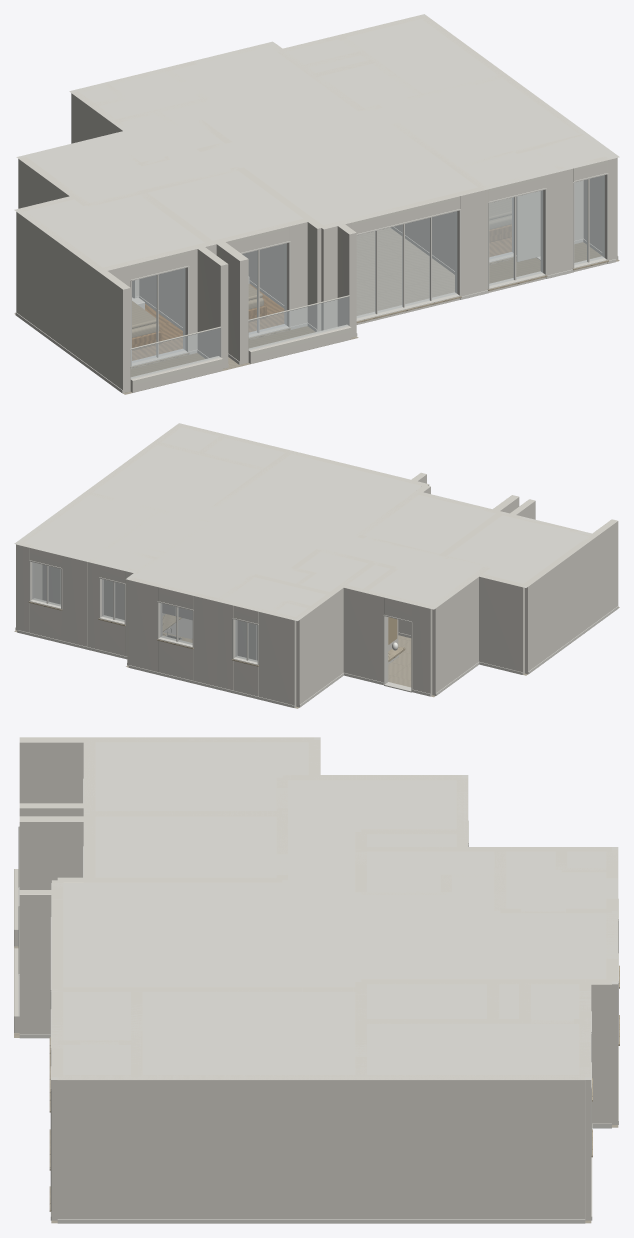
The model's file is acro112a-expanded.glb.
3 renders of one model, top to bottom at view 1: azimuth 30°, elevation 25°; view 2: azimuth 150°, elevation 25°; view 3: azimuth 270°, elevation 25°, orthographic. The views are drawn at different scales.
Visible parts, largest first — view 1: Indoor ceiling, West bedroom outer wall pier, Living south facade glazing, Living front floor, Master south facade glazing, West bedroom outer glazing glazing, Bedroom center east wall pier, Open balcony shaft west pier, Center balcony glass guard, Center bedroom outer glazing glazing, Master south facade pier.001, West balcony glass guard (+35 smaller); view 2: Indoor ceiling, West bedroom outer wall pier, Entry west wall pier, West notch north pier, Service west wall pier, Entry north wall pier.001, North service facade pier, North kitchen facade pier.001, North dressing facade pier, North kitchen facade pier, Entry north wall pier, East facade pier (+24 smaller); view 3: Indoor ceiling, East facade pier, West bedroom outer wall pier, Open balcony east return pier, Open balcony shaft east pier, North east step pier, East facade skirting.001, Bedroom center east wall pier, Kitchen bathroom divider pier, North kitchen facade pier.001, Master living divider pier.001, Bedroom dividing wall pier (+7 smaller).
Boxes of the visible parts, left/top/right/bottom form: Indoor ceiling: left=14, top=14, right=619, bottom=268; West bedroom outer wall pier: left=16, top=210, right=130, bottom=393; Living south facade glazing: left=357, top=211, right=456, bottom=318; Living front floor: left=356, top=235, right=454, bottom=315; Master south facade glazing: left=489, top=190, right=542, bottom=285; West bedroom outer glazing glazing: left=132, top=268, right=185, bottom=362; Bedroom center east wall pier: left=236, top=167, right=324, bottom=331; Open balcony shaft west pier: left=196, top=245, right=228, bottom=368; Center balcony glass guard: left=249, top=296, right=349, bottom=350; Center bedroom outer glazing glazing: left=242, top=243, right=286, bottom=334; Master south facade pier.001: left=546, top=168, right=573, bottom=275; West balcony glass guard: left=131, top=328, right=220, bottom=378; Indoor ceiling: left=14, top=423, right=594, bottom=620; West bedroom outer wall pier: left=522, top=519, right=618, bottom=674; Entry west wall pier: left=432, top=567, right=490, bottom=695; West notch north pier: left=476, top=573, right=525, bottom=674; Service west wall pier: left=294, top=585, right=344, bottom=707; Entry north wall pier.001: left=342, top=584, right=386, bottom=682; North service facade pier: left=258, top=609, right=297, bottom=707; North kitchen facade pier.001: left=129, top=577, right=160, bottom=671; North dressing facade pier: left=61, top=555, right=87, bottom=646; North kitchen facade pier: left=193, top=593, right=220, bottom=686; Entry north wall pier: left=412, top=602, right=432, bottom=695; East facade pier: left=16, top=424, right=182, bottom=630; Indoor ceiling: left=51, top=737, right=618, bottom=1079; East facade pier: left=57, top=1075, right=585, bottom=1218; West bedroom outer wall pier: left=19, top=737, right=314, bottom=803; Open balcony east return pier: left=19, top=890, right=57, bottom=1033; Open balcony shaft east pier: left=19, top=816, right=89, bottom=889; North east step pier: left=585, top=979, right=611, bottom=1123; East facade skirting.001: left=57, top=1219, right=585, bottom=1223; Bedroom center east wall pier: left=57, top=877, right=282, bottom=882; Kitchen bathroom divider pier: left=361, top=979, right=584, bottom=984; North kitchen facade pier.001: left=606, top=958, right=618, bottom=1124; Master living divider pier.001: left=57, top=987, right=302, bottom=991; Bedroom dividing wall pier: left=90, top=811, right=282, bottom=816.
Bounding box in the file's own units: 13.88 × 2.72 × 10.35.
Materials: 15 (6 with a texture image).
